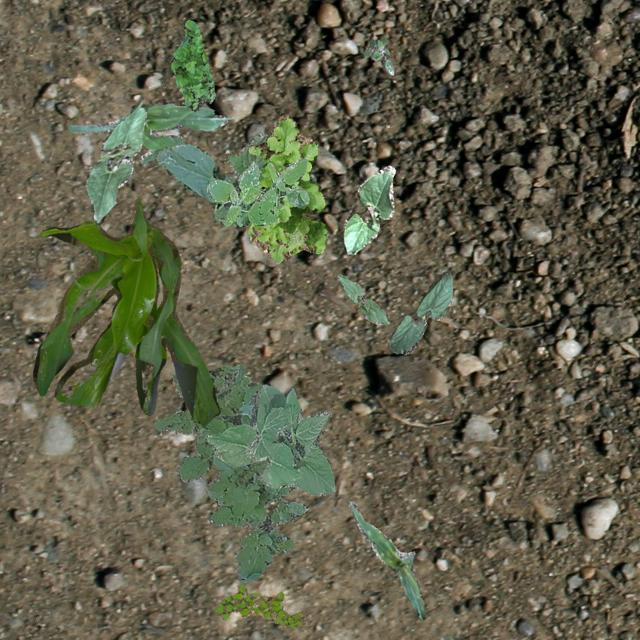crop: (32, 198, 218, 426), (204, 382, 334, 494), (156, 132, 268, 222), (66, 102, 230, 162), (348, 500, 424, 620), (84, 101, 146, 222), (388, 272, 452, 354), (342, 164, 394, 254), (336, 272, 388, 324)
weed: (153, 364, 304, 582), (248, 114, 326, 260), (205, 157, 308, 225), (214, 582, 304, 628), (170, 19, 214, 110), (362, 36, 393, 74)
